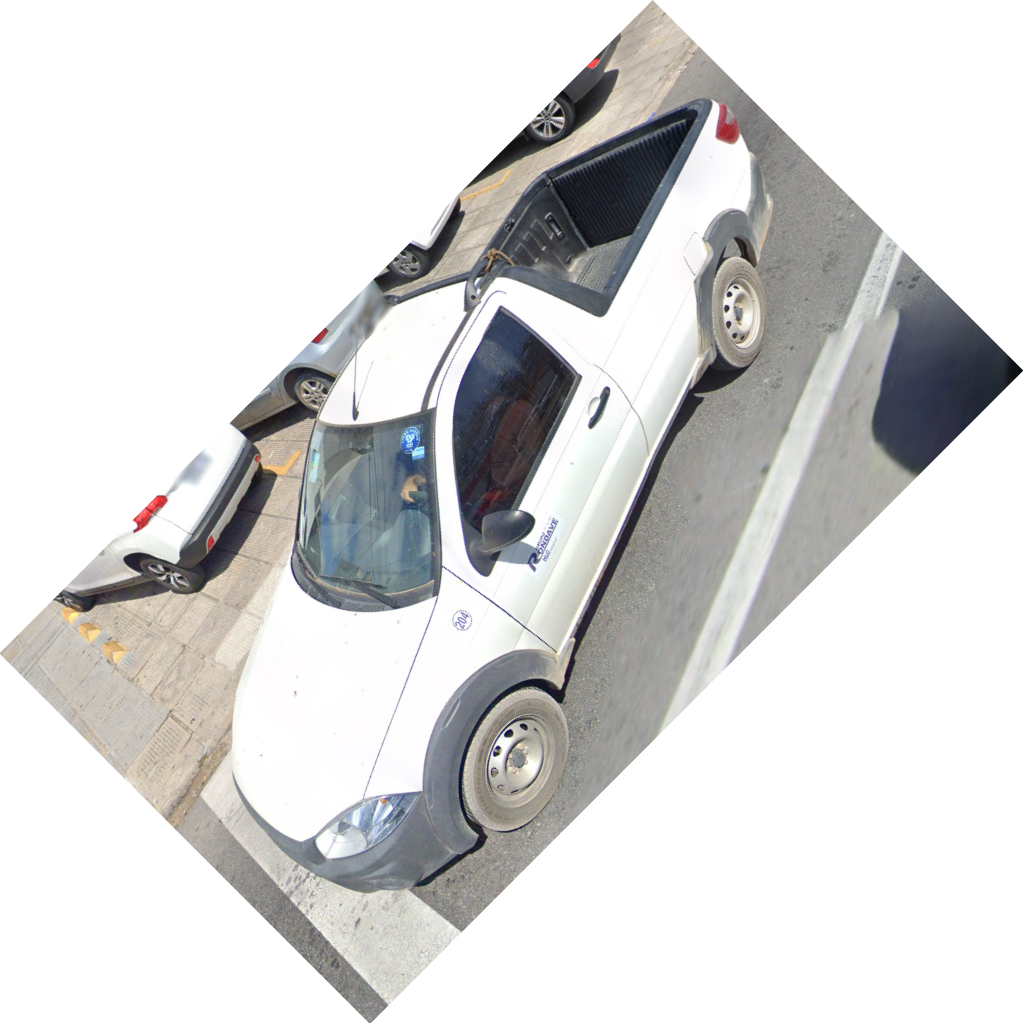car: (240, 96, 780, 891)
